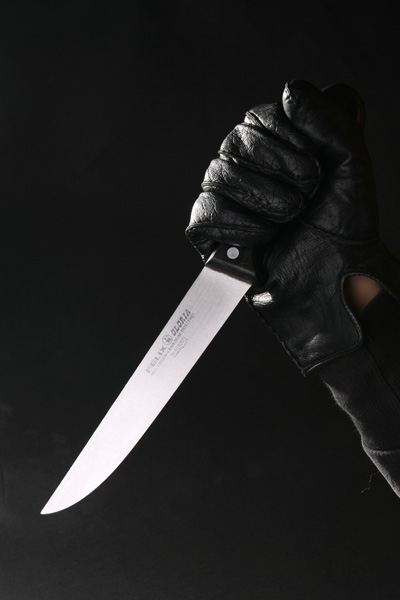knife: (37, 64, 369, 522)
